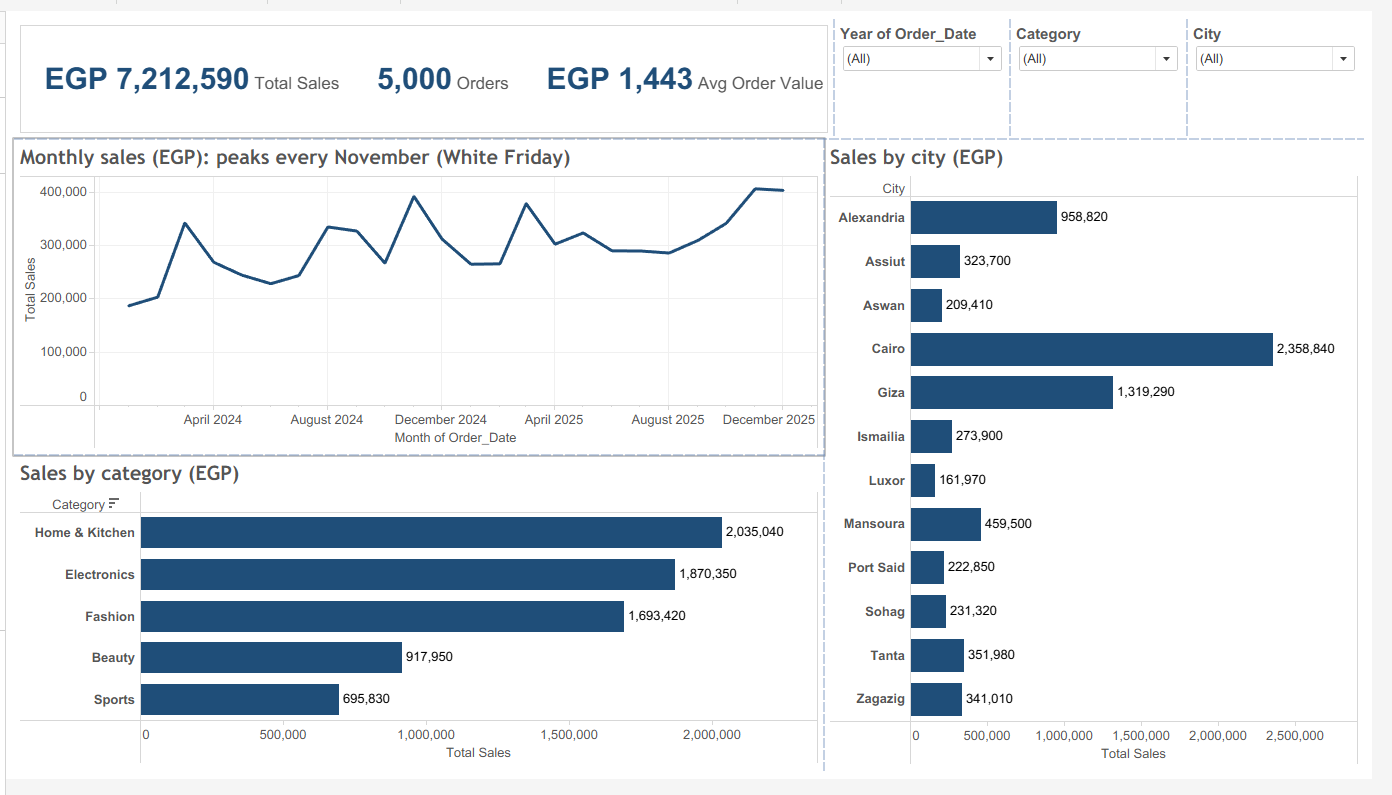

What the dashboard file says about the page in this screenshot:
{"tool":"tableau","page":{"name":"Sales Overview","canvas":[1366,768],"ordinal":1},"visuals":[{"type":"worksheet","title":"KPI - Sales","mark":"Text","box":[8,8,819.6,120.3]},{"type":"filter","title":"Sales by City","param":"[textscan.store01].[yr:Order_Date:ok]","box":[827.6,8,176.8,120.3]},{"type":"filter","title":"Sales by City","param":"[textscan.store01].[none:Category:nk]","box":[1004.4,8,176.8,120.3]},{"type":"filter","title":"Sales by City","param":"[textscan.store01].[none:City:nk]","box":[1181.2,8,176.8,120.3]},{"type":"worksheet","title":"Monthly Sales","mark":"Line","rows":["Calc_Sales"],"cols":["Order_Date"],"box":[8,128.3,810,315.8]},{"type":"worksheet","title":"Sales by City","mark":"Bar","rows":["City"],"cols":["Calc_Sales"],"box":[818,128.3,540,631.7]},{"type":"worksheet","title":"Sales by Category","mark":"Bar","rows":["Category"],"cols":["Calc_Sales"],"box":[8,444.2,810,315.8]}]}

Visuals, with their boxes in screenshot pixels (x1, y1, x2, y2), scaled from the page's 1366x768 canvas onto the 1392x795 screenshot:
"KPI - Sales" worksheet (Text marks): crop(8, 8, 843, 133)
"Sales by City" filter: crop(843, 8, 1024, 133)
"Sales by City" filter: crop(1024, 8, 1204, 133)
"Sales by City" filter: crop(1204, 8, 1384, 133)
"Monthly Sales" worksheet (Line marks): crop(8, 133, 834, 460)
"Sales by City" worksheet (Bar marks): crop(834, 133, 1384, 787)
"Sales by Category" worksheet (Bar marks): crop(8, 460, 834, 787)
